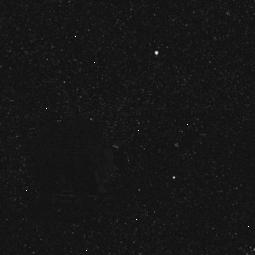proba_2: (22, 116, 119, 216)
